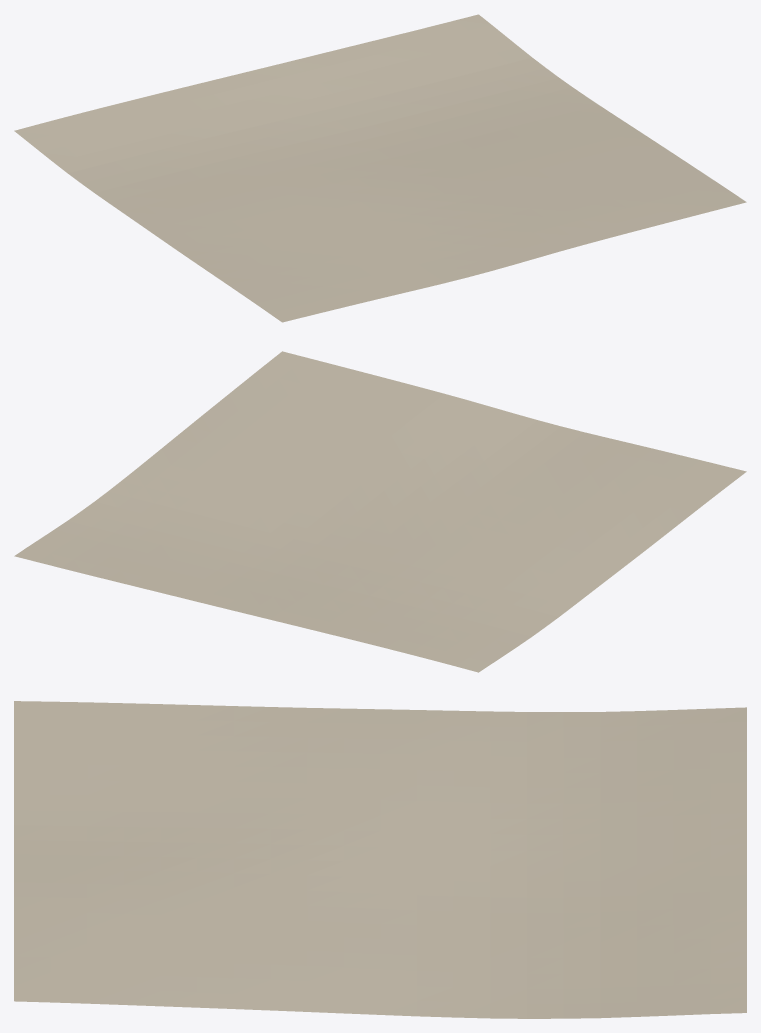
Rendered from bolak_-7_12.glb.
The picture shows the model from 3 angles, top to bottom: view 1: azimuth 30°, elevation 25°; view 2: azimuth 150°, elevation 25°; view 3: azimuth 270°, elevation 25°; orthographic projection. The views are drawn at different scales.
Parts seen in each view (by area): view 1: Yer_Tuproq-col; view 2: Yer_Tuproq-col; view 3: Yer_Tuproq-col.
Part boxes in pixels (x1=…): Yer_Tuproq-col: x1=14, y1=14, x2=746, y2=322; Yer_Tuproq-col: x1=14, y1=351, x2=746, y2=672; Yer_Tuproq-col: x1=14, y1=701, x2=746, y2=1018.
Bounding box in the file's own units: 400 × 12.33 × 400.
